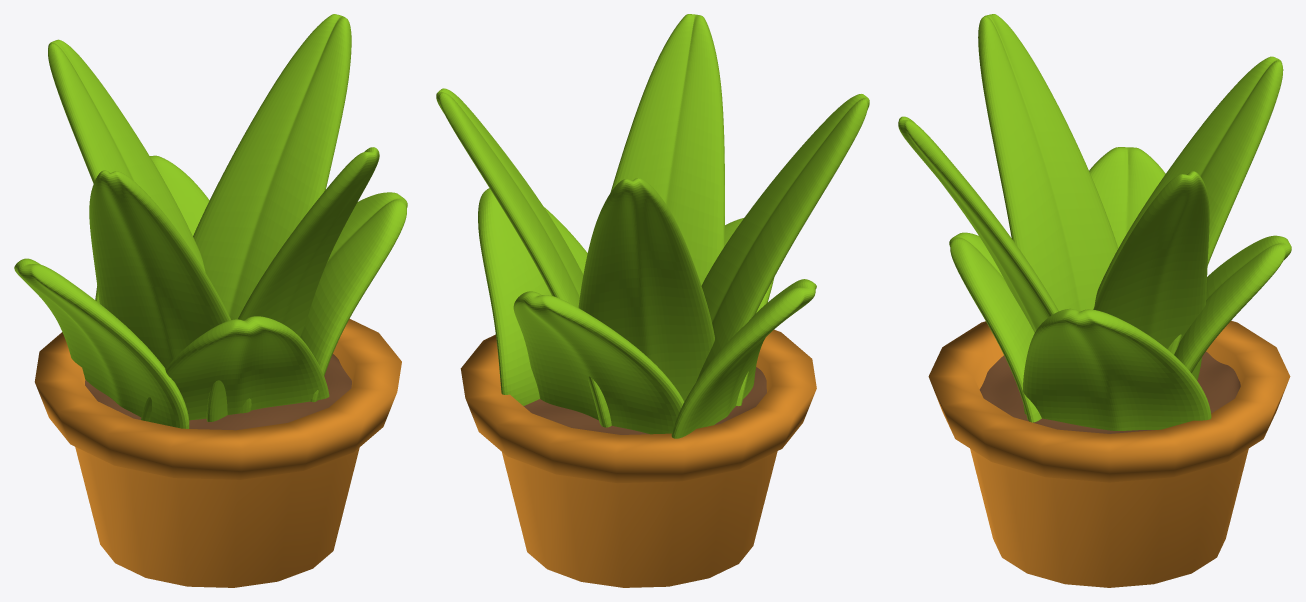
The model's file is Snakeplant.fbx.
The picture shows the model from 3 angles, left to right: view 1: azimuth 30°, elevation 25°; view 2: azimuth 150°, elevation 25°; view 3: azimuth 270°, elevation 25°; orthographic projection. The views are drawn at different scales.
Visible parts, largest first — view 1: Plane.016, Plane.014, Circle.013; view 2: Plane.016, Plane.014, Circle.013; view 3: Plane.016, Plane.014, Circle.013.
Boxes of the visible parts, x1,y1,x2,y2 form: Plane.016: [14, 14, 407, 428]; Plane.014: [34, 318, 401, 587]; Circle.013: [85, 354, 351, 430]; Plane.016: [436, 14, 869, 438]; Plane.014: [460, 329, 816, 587]; Circle.013: [523, 367, 766, 434]; Plane.016: [898, 14, 1291, 430]; Plane.014: [928, 320, 1290, 587]; Circle.013: [979, 351, 1240, 433].
Bounding box in the file's own units: 25.56 × 30.61 × 24.66.
